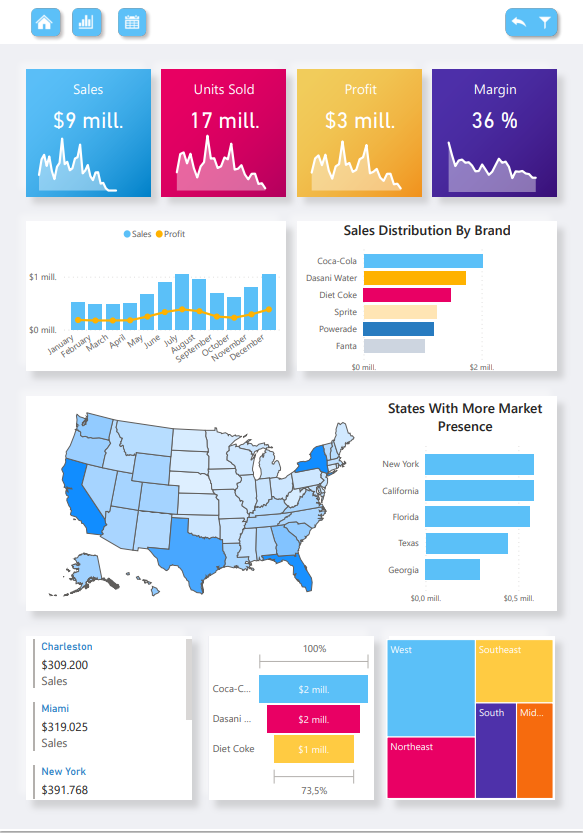

Layout of this report page (visuals, bound fields, positions):
{"tool":"powerbi","page":{"name":"Overview","canvas":[800,1133],"ordinal":0},"visuals":[{"type":"card","title":"Sales","fields":{"Values":["Metrics.Sales"]},"box":[36.2,140,170,37.5],"z":0},{"type":"card","title":"Units Sold","fields":{"Values":["Metrics.Units Sold"]},"box":[222.5,140,170,37.5],"z":1000},{"type":"card","fields":{"Values":["Metrics.Avg marging"]},"box":[596.2,140,166.2,37.5],"z":2000},{"type":"card","fields":{"Values":["Metrics.Profit"]},"box":[408.8,140,170,37.5],"z":3000},{"type":"lineStackedColumnComboChart","fields":{"Y":["Metrics.Sales"],"Y2":["Metrics.Profit"],"Category":["Data.Invoice Date.Variation.Date Hierarchy.Month"]},"box":[35,297.5,357.5,218.8],"z":4000},{"type":"barChart","title":"Sales Distribution By Brand","fields":{"Category":["Data.Beverage Brand"],"Y":["Metrics.Sales"]},"box":[408.8,298.8,355,217.5],"z":5000},{"type":"shapeMap","fields":{"Category":["Data.State"],"Value":["Metrics.Sales"]},"box":[40,542.5,473.8,291.2],"z":6000},{"type":"treemap","fields":{"Group":["Data.Region"],"Values":["Metrics.Sales"]},"box":[525.5,869.1,238.3,227.7],"z":7000},{"type":"funnel","fields":{"Category":["Data.Beverage Brand"],"Y":["Metrics.Sales"]},"box":[287.2,869.1,227.7,227.7],"z":8000},{"type":"multiRowCard","fields":{"Values":["Data.City","Metrics.Sales"]},"box":[39.8,868.7,227.7,227.7],"z":9000},{"type":"stackedAreaChart","fields":{"Y":["Metrics.Sales"],"Category":["Data.Invoice Date.Variation.Date Hierarchy.Day"]},"box":[35,165,171.2,98.8],"z":10000},{"type":"stackedAreaChart","fields":{"Category":["Data.Invoice Date.Variation.Date Hierarchy.Day"],"Y":["Metrics.Units Sold"]},"box":[222.5,163.8,170,100],"z":11000},{"type":"stackedAreaChart","fields":{"Y":["Metrics.Profit"],"Category":["Data.Invoice Date.Variation.Date Hierarchy.Day"]},"box":[407.5,165,171.2,98.8],"z":12000},{"type":"stackedAreaChart","fields":{"Y":["Metrics.Avg marging"],"Category":["Data.Invoice Date.Variation.Date Hierarchy.Day"]},"box":[596.2,165,167.5,98.8],"z":13000},{"type":"barChart","title":"States With More Market Presence","fields":{"Y":["Metrics.Sales"],"Category":["Data.State"]},"box":[513.8,542.6,248.9,291.5],"z":14000},{"type":"textbox","box":[36.2,101.2,170,38.8],"z":15000},{"type":"textbox","box":[222.5,101.2,170,38.8],"z":16000},{"type":"textbox","box":[408.8,101.2,172.5,38.8],"z":17000},{"type":"textbox","box":[596.2,101.2,167.5,38.8],"z":18000},{"type":"shape","title":"Button Filters Container","box":[684.9,0,88.3,54.8],"z":19000},{"type":"actionButton","title":"Filters","box":[728.7,10,35.3,35.3],"z":20000},{"type":"actionButton","title":"Clear Filter","box":[694.4,9.4,34.6,35.5],"z":21000},{"type":"actionButton","title":"Financial Details","box":[153.8,0,54.8,54.8],"z":29000},{"type":"actionButton","title":"Historic","box":[91.4,0,57,54.8],"z":30000},{"type":"actionButton","title":"Overview","box":[34.4,0,57,54.8],"z":31000}]}

Visuals, with their boxes in screenshot pixels (x1, y1, x2, y2), scaled from the page's 800x1133 canvas onto the 583x833 screenshot:
"Sales" card: <region>26, 103, 150, 131</region>
"Units Sold" card: <region>162, 103, 286, 131</region>
card - Metrics.Avg marging: <region>434, 103, 556, 131</region>
card - Metrics.Profit: <region>298, 103, 422, 131</region>
lineStackedColumnComboChart - Metrics.Sales x Metrics.Profit: <region>26, 219, 286, 380</region>
"Sales Distribution By Brand" barChart: <region>298, 220, 557, 380</region>
shapeMap - Data.State x Metrics.Sales: <region>29, 399, 374, 613</region>
treemap - Data.Region x Metrics.Sales: <region>383, 639, 557, 806</region>
funnel - Data.Beverage Brand x Metrics.Sales: <region>209, 639, 375, 806</region>
multiRowCard - Data.City x Metrics.Sales: <region>29, 639, 195, 806</region>
stackedAreaChart - Metrics.Sales x Data.Invoice Date.Variation.Date Hierarchy.Day: <region>26, 121, 150, 194</region>
stackedAreaChart - Data.Invoice Date.Variation.Date Hierarchy.Day x Metrics.Units Sold: <region>162, 120, 286, 194</region>
stackedAreaChart - Metrics.Profit x Data.Invoice Date.Variation.Date Hierarchy.Day: <region>297, 121, 422, 194</region>
stackedAreaChart - Metrics.Avg marging x Data.Invoice Date.Variation.Date Hierarchy.Day: <region>434, 121, 557, 194</region>
"States With More Market Presence" barChart: <region>374, 399, 556, 613</region>
textbox: <region>26, 74, 150, 103</region>
textbox: <region>162, 74, 286, 103</region>
textbox: <region>298, 74, 424, 103</region>
textbox: <region>434, 74, 557, 103</region>
"Button Filters Container" shape: <region>499, 0, 563, 40</region>
"Filters" actionButton: <region>531, 7, 557, 33</region>
"Clear Filter" actionButton: <region>506, 7, 531, 33</region>
"Financial Details" actionButton: <region>112, 0, 152, 40</region>
"Historic" actionButton: <region>67, 0, 108, 40</region>
"Overview" actionButton: <region>25, 0, 67, 40</region>
